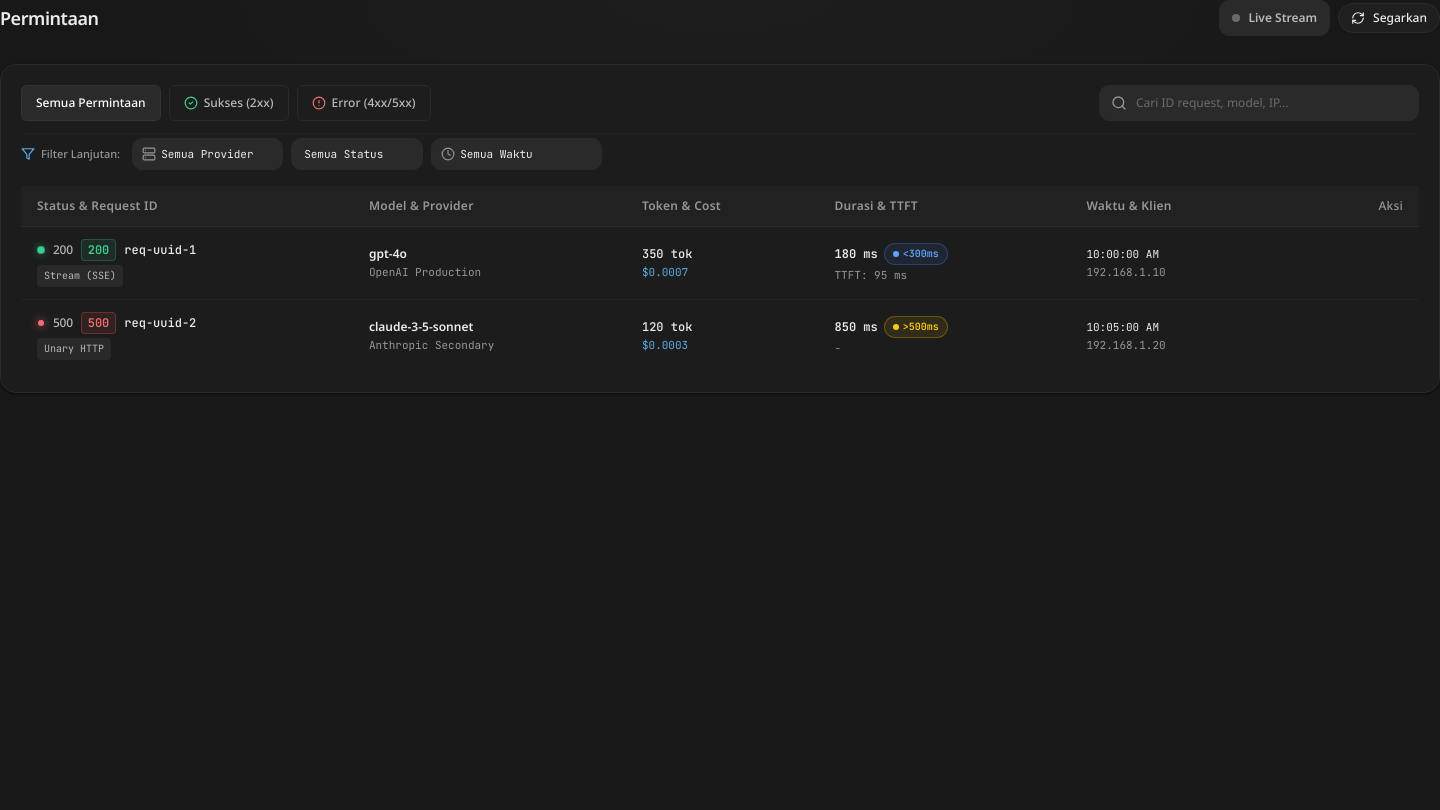
Requests Page — Modular Architecture & Integration Spec › membuka RequestInspectorModal saat baris request diklik dan menampilkan metrics & event timeline
The width and height of the screenshot is (1440, 810).
Note: Klik baris request pertama
Click the button with test id "request-row-req-uuid-1" at (99, 250), box [21,226,1419,300]
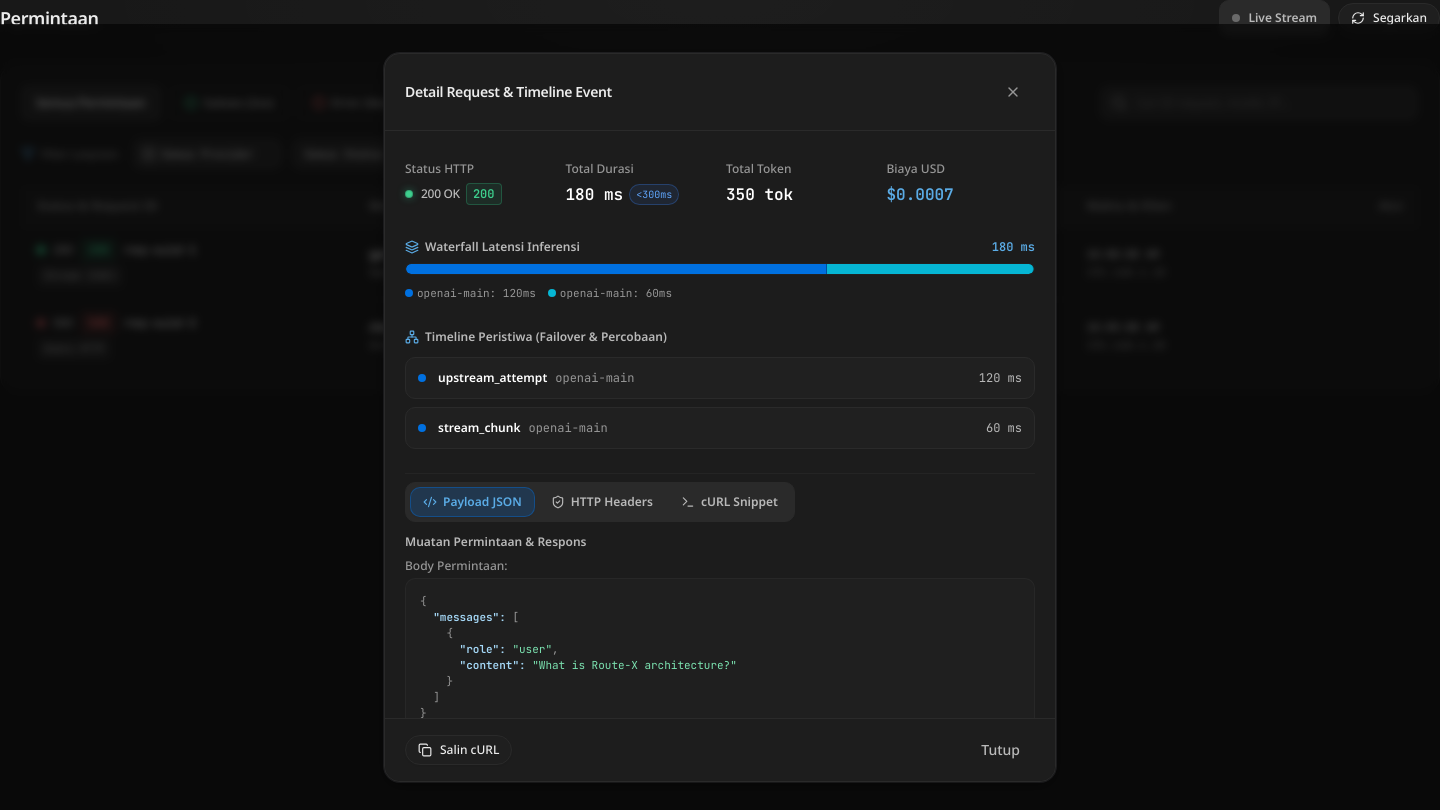
Check: the heading "Detail Request & Timeline Event" is shown, box [405,82,612,102]
Check: the text "Total Durasi" is shown, box [566,160,634,176]
Check: the text "Waterfall Latensi Inferensi" is shown, box [425,238,580,254]
